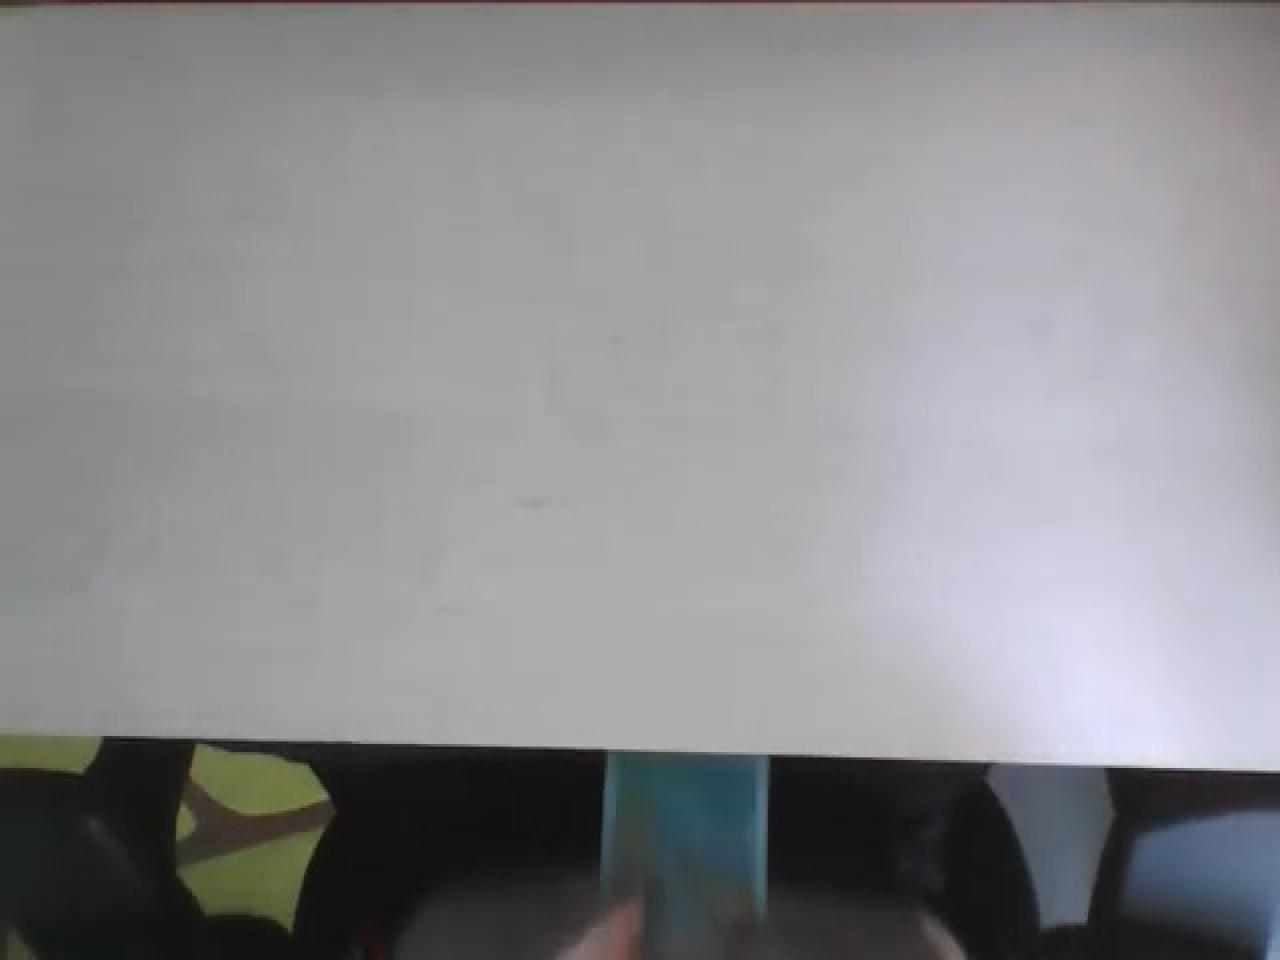100leva: (4, 5, 1278, 782), (6, 741, 1276, 960), (596, 752, 774, 960)
